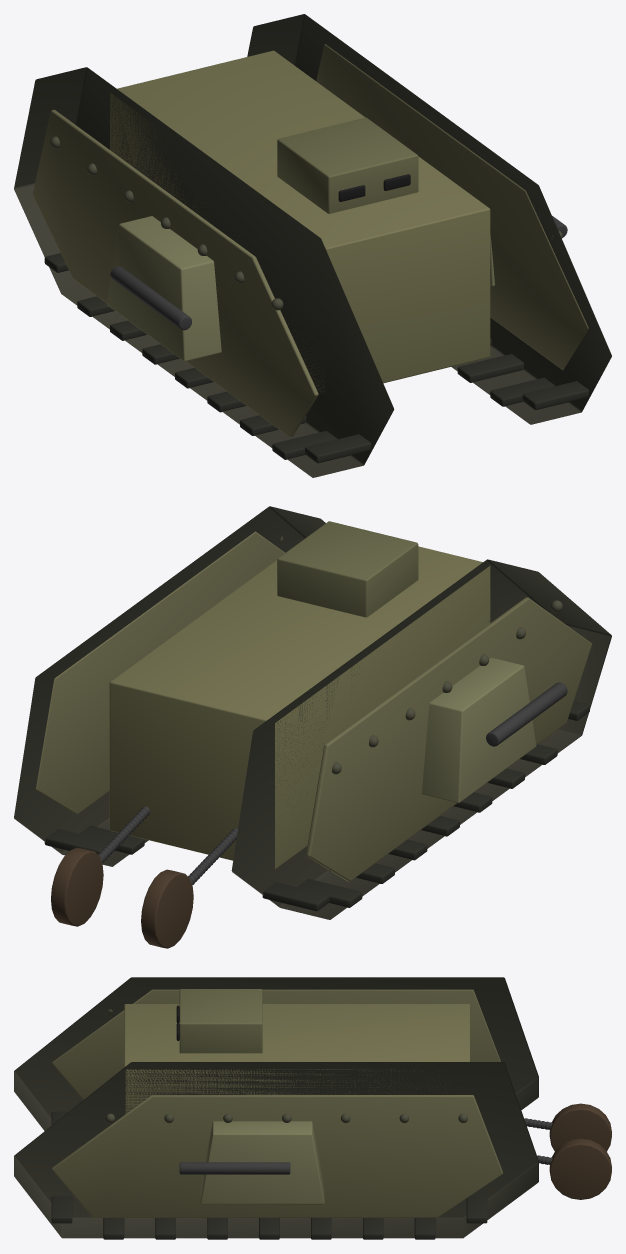
File: tanque_ww1.glb
3 views of the same model, one above another, from view 1: azimuth 30°, elevation 25°; view 2: azimuth 150°, elevation 25°; view 3: azimuth 270°, elevation 25° (orthographic). The views are drawn at different scales.
Parts seen in each view (by area): view 1: tanque_ww1; view 2: tanque_ww1; view 3: tanque_ww1.
Part boxes in pixels (left/top/right/bottom): tanque_ww1: left=14, top=14, right=611, bottom=477; tanque_ww1: left=14, top=506, right=611, bottom=948; tanque_ww1: left=14, top=977, right=611, bottom=1239.
Bounding box in the file's own units: 5.18 × 2.89 × 8.64.
